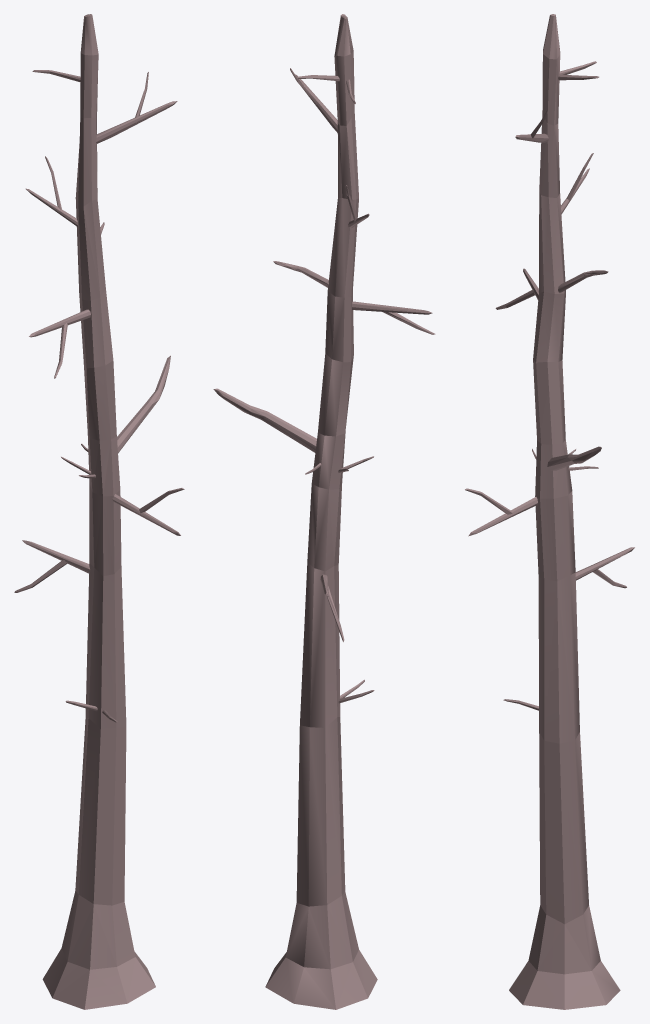
File: caelid_tree_2.glb
The picture shows the model from 3 angles, left to right: view 1: azimuth 30°, elevation 25°; view 2: azimuth 150°, elevation 25°; view 3: azimuth 270°, elevation 25°; orthographic projection.
Parts seen in each view (by area): view 1: Caelid Straight Tree 2; view 2: Caelid Straight Tree 2; view 3: Caelid Straight Tree 2.
Part boxes in pixels (box(x1,y1,x2,y2)): Caelid Straight Tree 2: box(14, 14, 184, 1009); Caelid Straight Tree 2: box(213, 14, 435, 1009); Caelid Straight Tree 2: box(465, 14, 634, 1009).
Size of the model in its own units: 0.1386 by 0.7131 by 0.1138.
